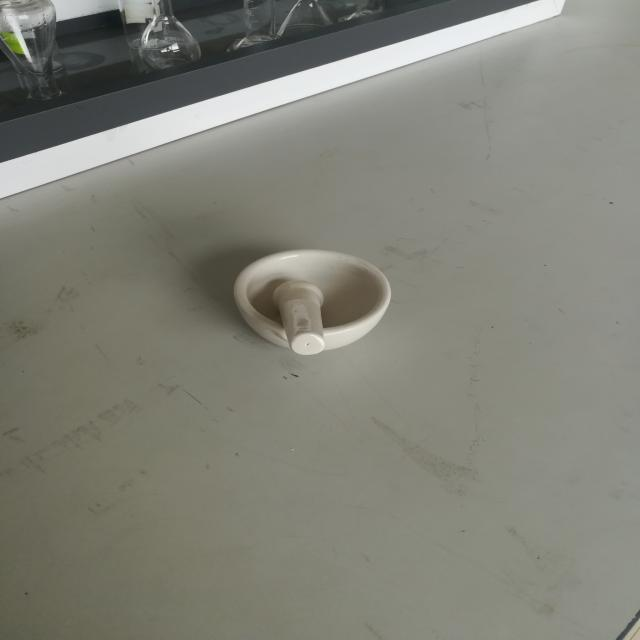Porcelain_Mortar Pestle: (196, 212, 402, 390)
